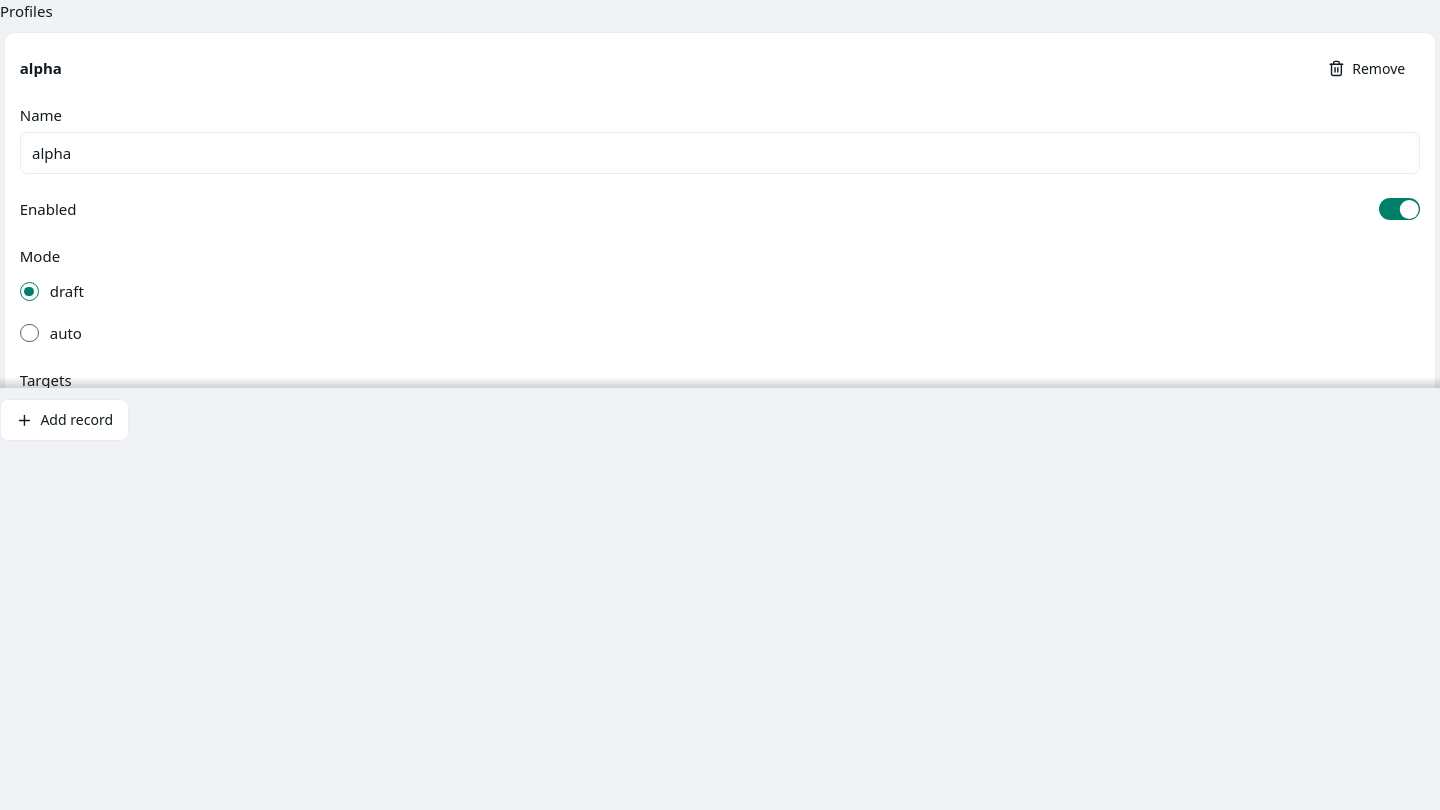
Test: records field › Remove asks first and keeps the other records' secrets
Click the button with aria-label "Remove alpha" at (1367, 69), box top-left (1313, 48), bottom-right (1420, 89)
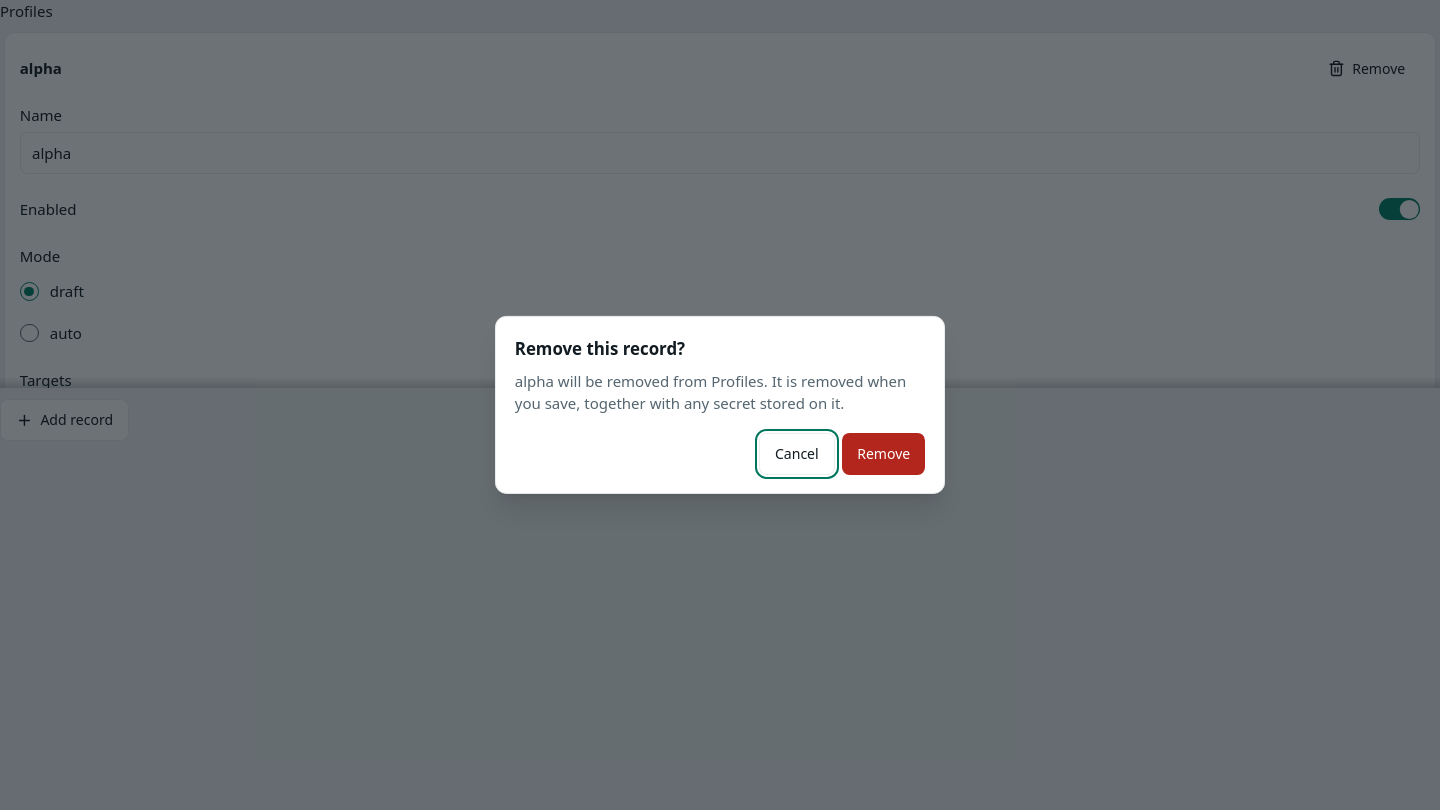
Now the dialog shows "alpha will be removed from Profiles.", box top-left (515, 370), bottom-right (768, 390)
Click the button "Remove" at (884, 454), box top-left (842, 433), bottom-right (925, 474)
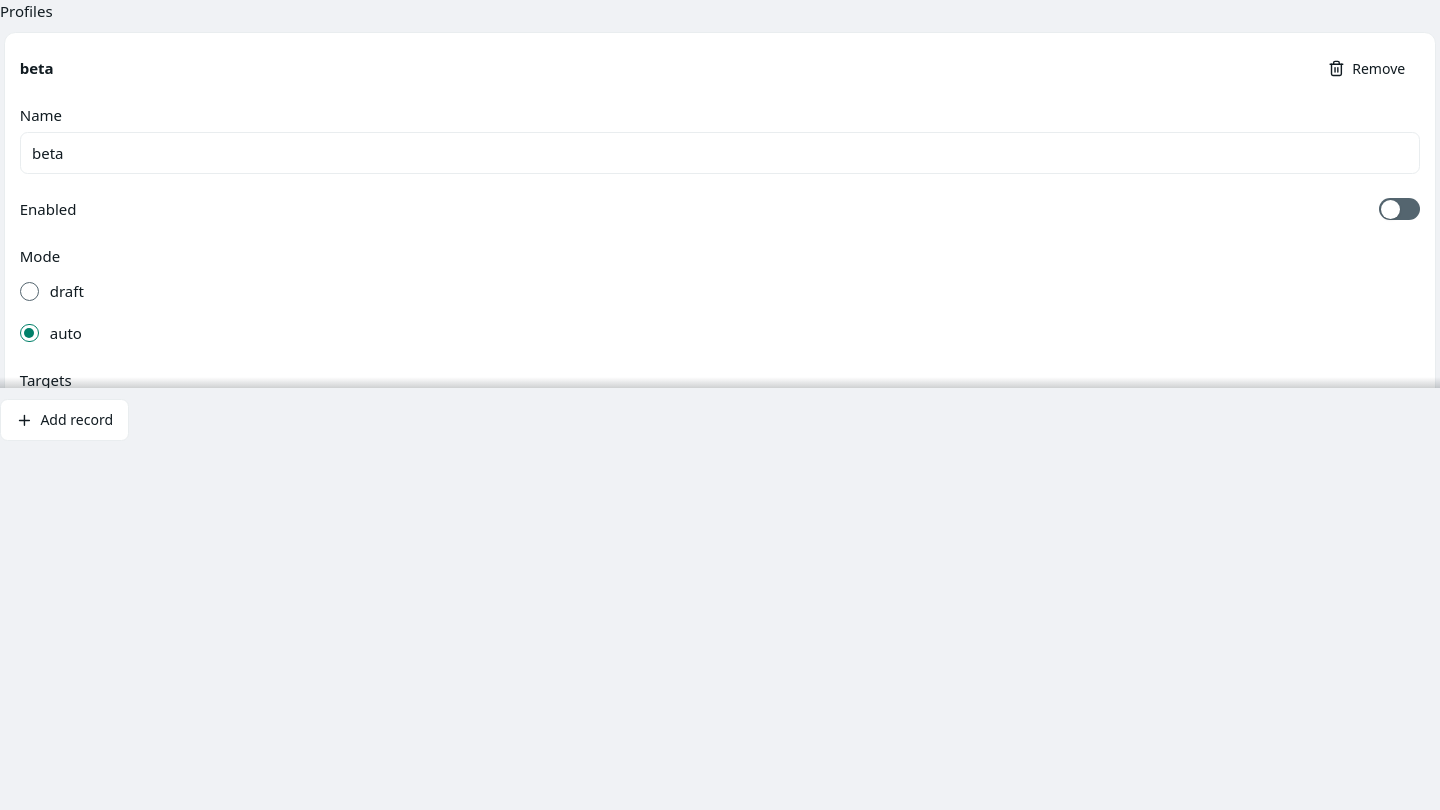
Now the heading "alpha" is gone
